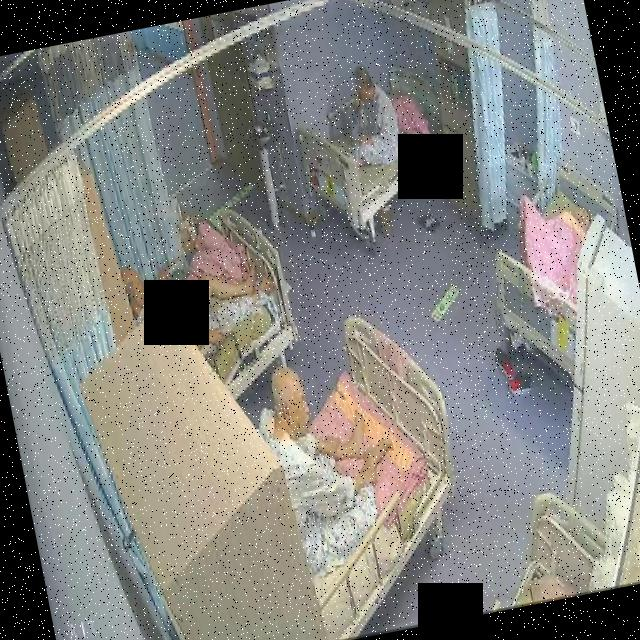bed: (255, 304, 486, 640), (469, 148, 640, 394), (149, 202, 308, 414), (286, 59, 454, 238)
lie: (121, 235, 282, 364)
patient: (243, 341, 413, 578), (120, 234, 284, 366), (334, 60, 408, 178)
sit: (244, 339, 411, 575), (336, 60, 406, 178)
